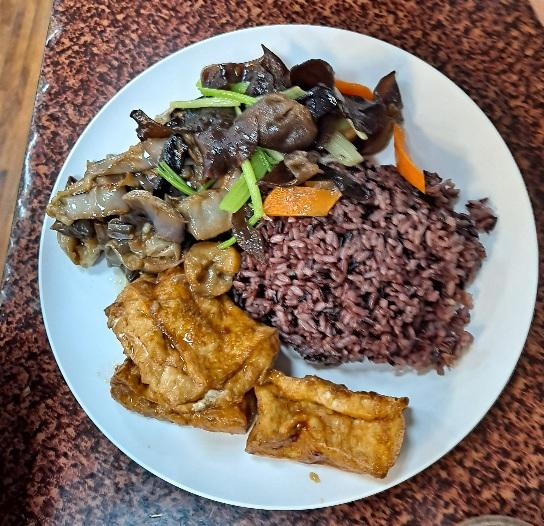big fried chicken leg: (35, 17, 544, 513)
braised fish: (230, 166, 499, 372)
braised fish fillet: (106, 270, 414, 478), (149, 51, 430, 178), (56, 146, 235, 269)
